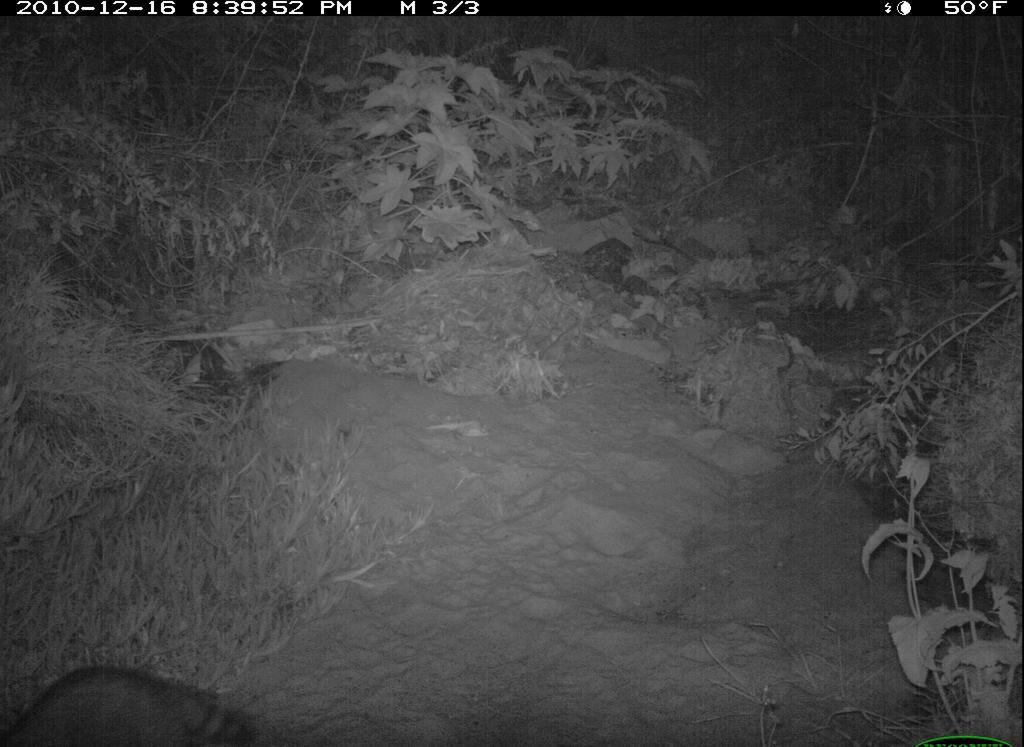raccoon: (7, 652, 271, 743)
